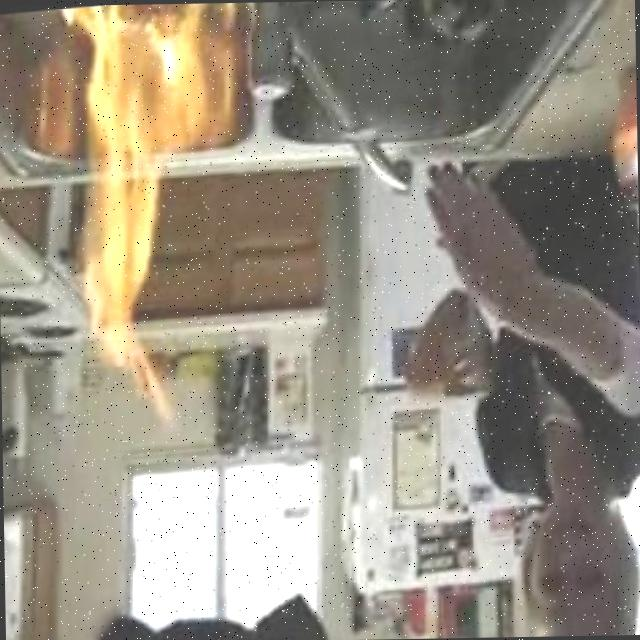fire: (52, 2, 188, 362), (61, 2, 239, 170)
